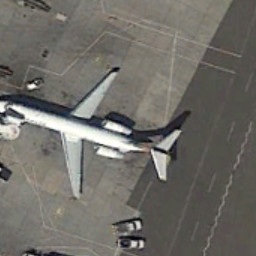Airplane: (1, 59, 194, 204)
